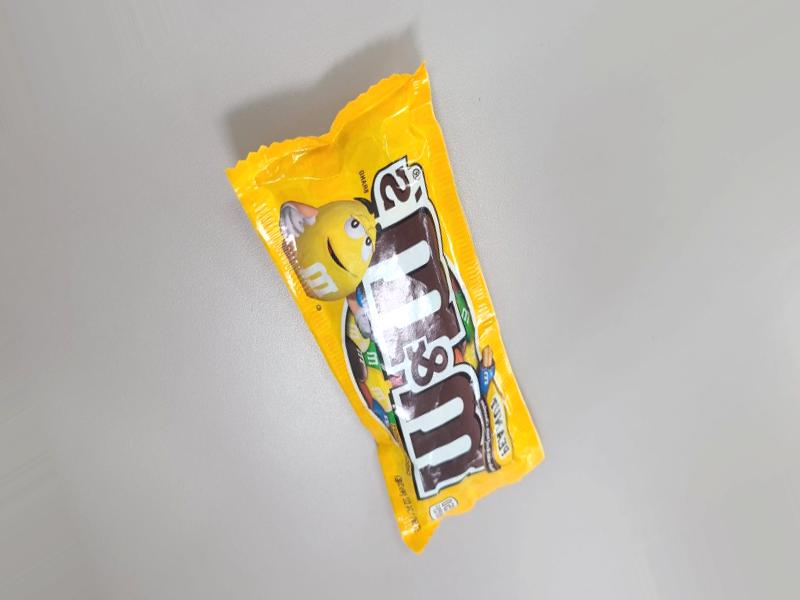m&m: (218, 113, 546, 579)
